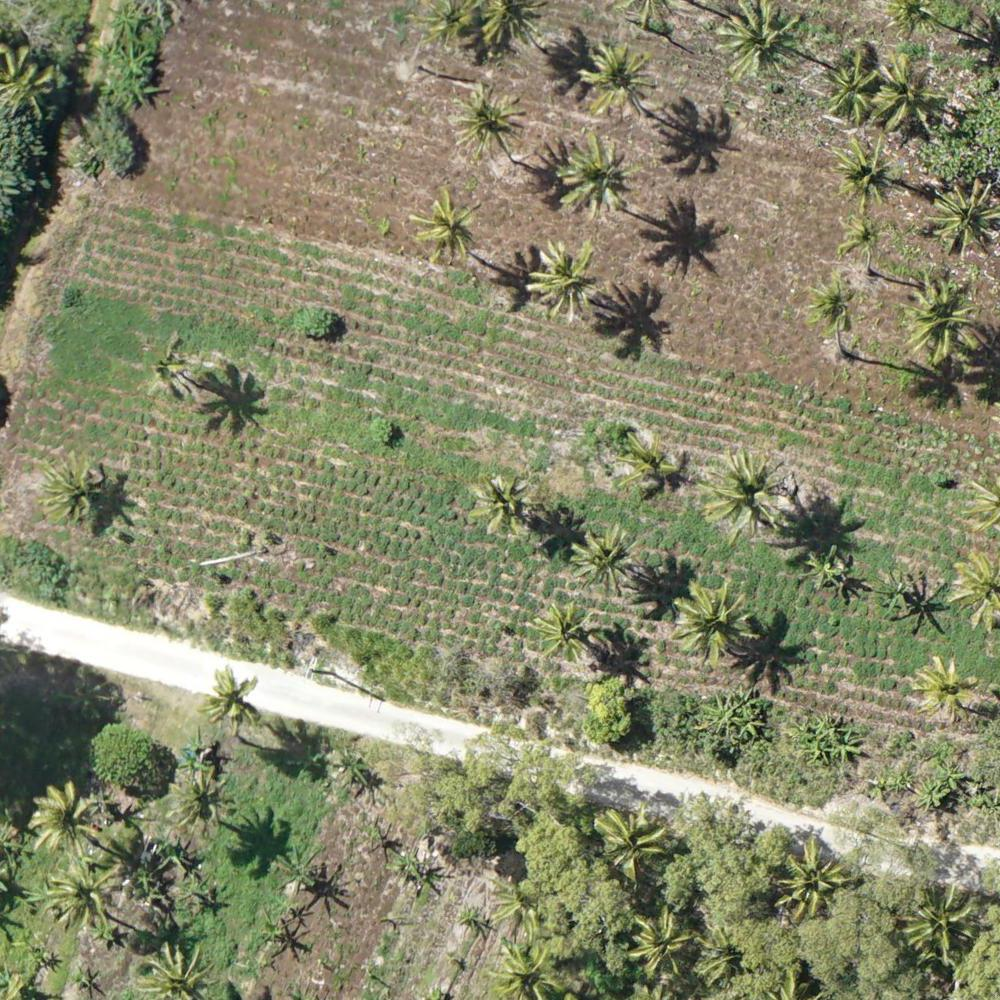Palm: (698, 452, 784, 541), (672, 580, 758, 661), (719, 2, 802, 82), (906, 280, 982, 360), (871, 52, 947, 130), (775, 840, 852, 916), (561, 136, 636, 214), (831, 134, 903, 212), (905, 884, 980, 958), (25, 782, 101, 855), (531, 236, 603, 313), (42, 856, 115, 930), (930, 175, 1000, 252), (409, 189, 481, 262), (578, 43, 652, 113), (612, 429, 686, 497), (595, 806, 665, 877), (467, 474, 540, 540), (452, 89, 525, 155), (569, 526, 633, 595), (39, 451, 101, 518), (205, 668, 266, 730), (168, 772, 232, 831), (912, 657, 976, 716), (490, 941, 556, 998), (141, 944, 208, 1000), (823, 56, 878, 123), (633, 911, 689, 976), (533, 605, 596, 656), (836, 209, 889, 264), (808, 275, 859, 327)
